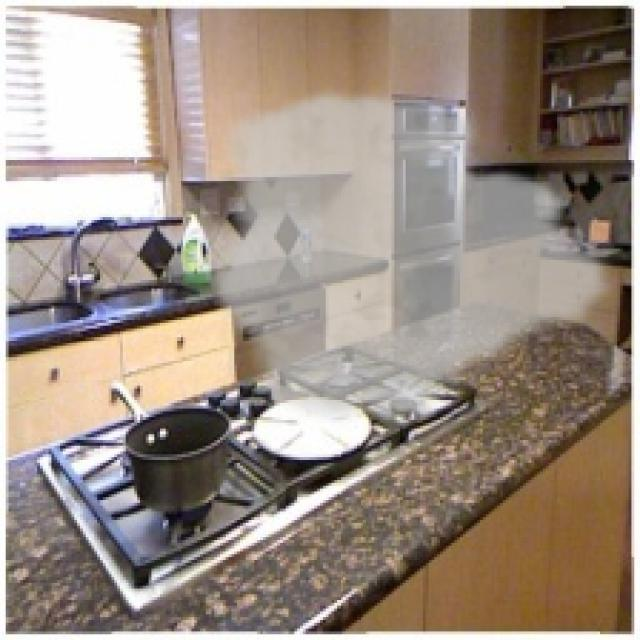Smoke: (208, 86, 623, 432)
